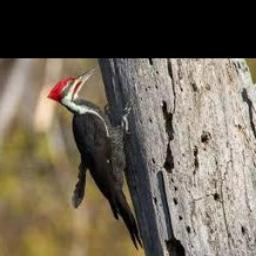Woodpecker: (47, 66, 144, 250)
